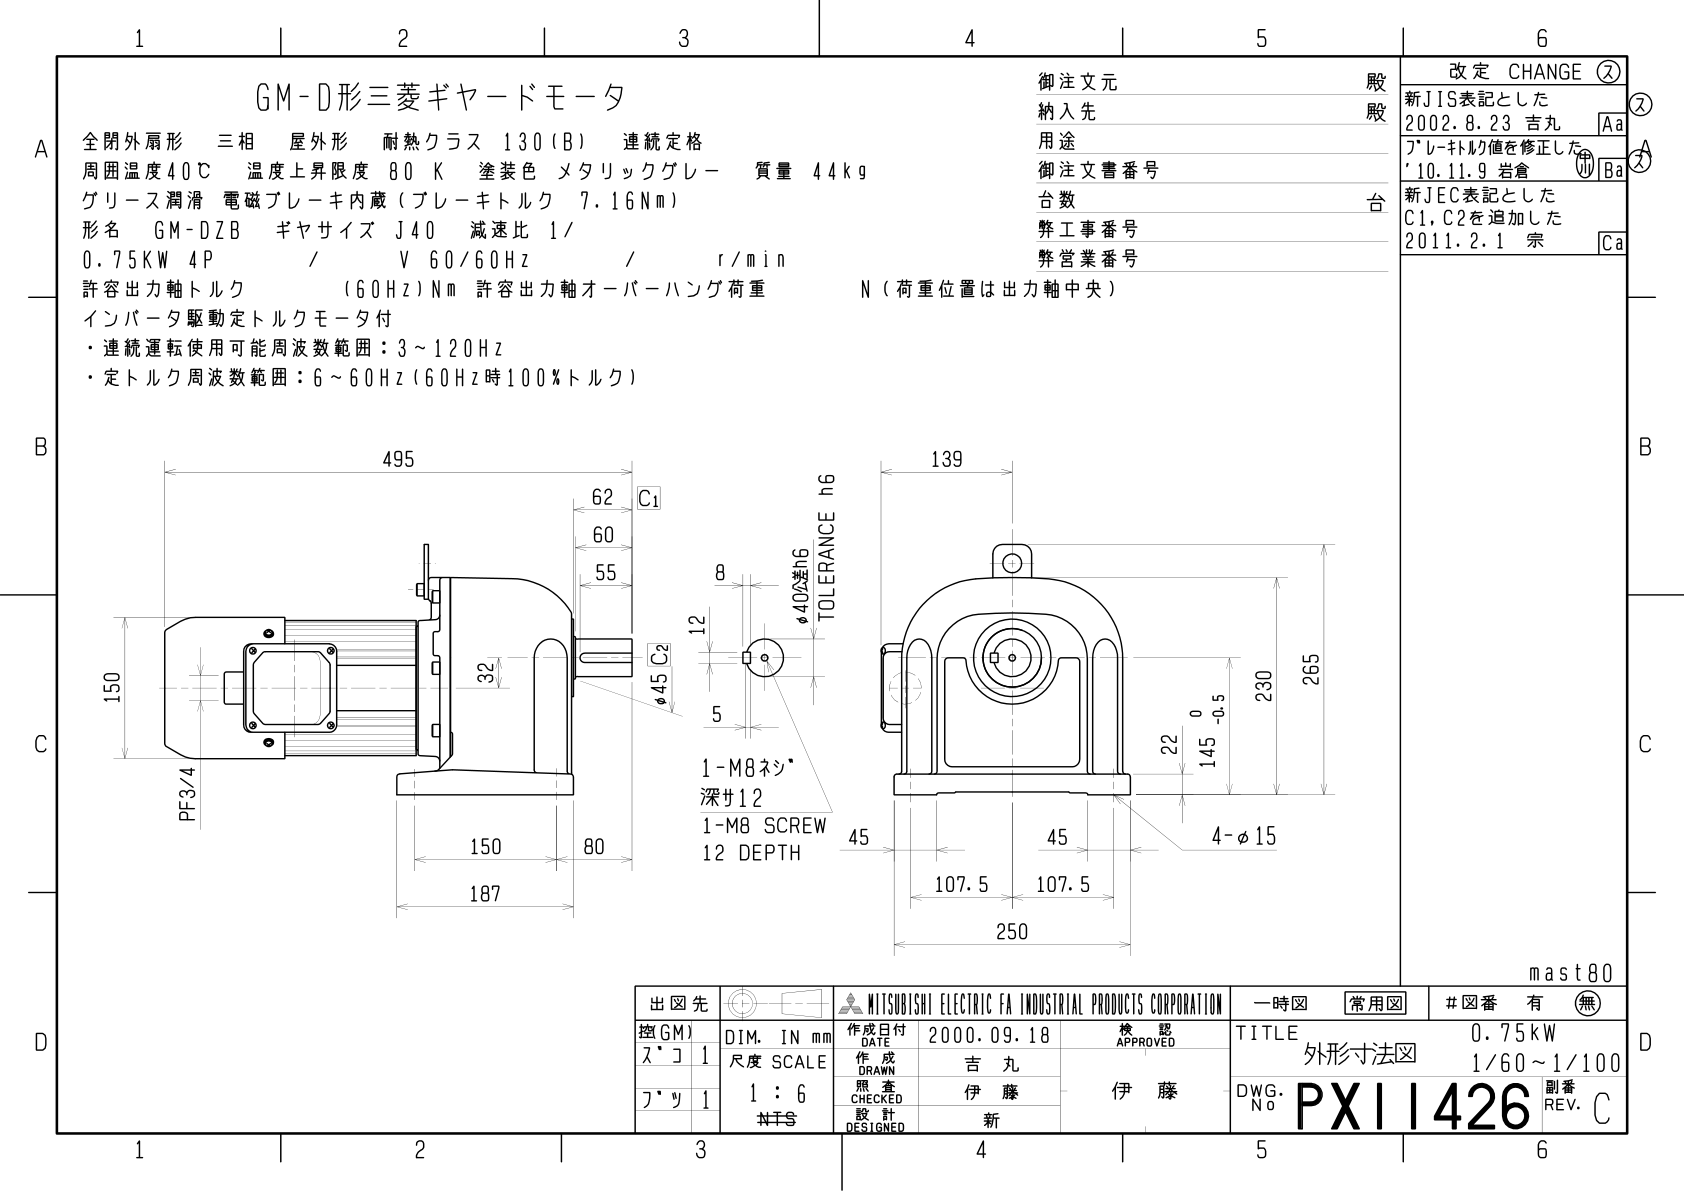GM_D_インバータ屋外_三相_脚: (79, 418, 1367, 973)
